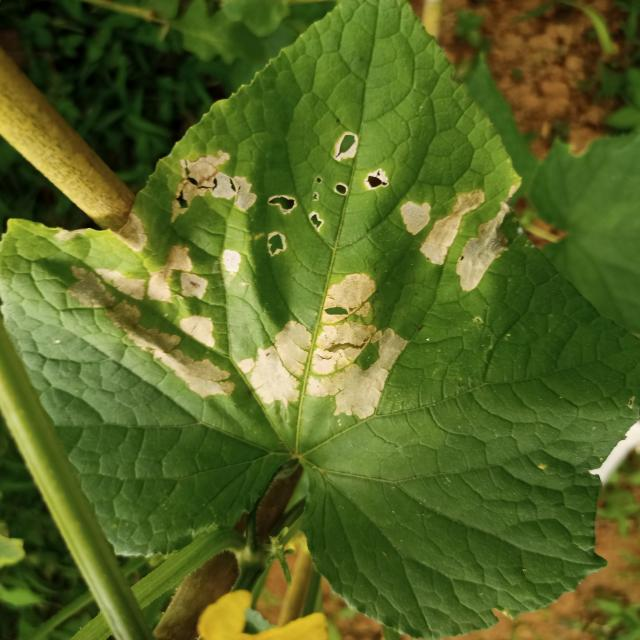disease_cucumber: (67, 132, 521, 420)
